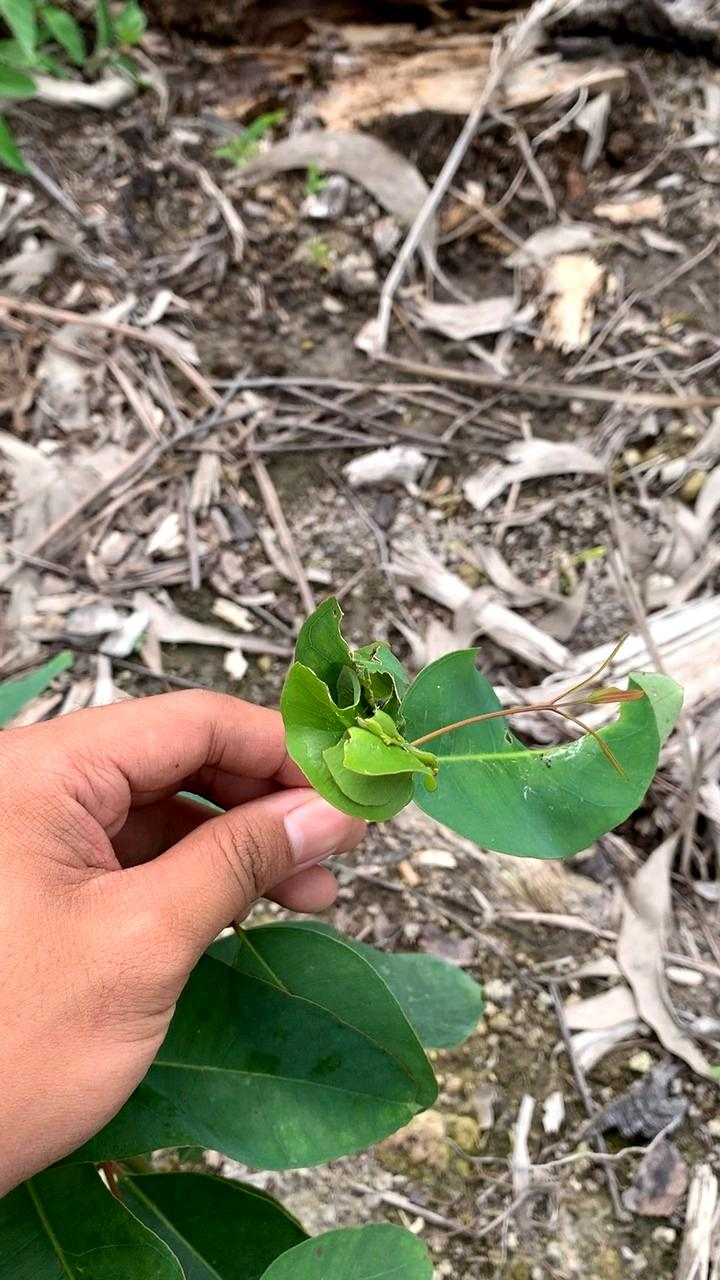Leaf Roller - Leaf: (273, 581, 453, 843)
